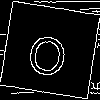O: (25, 25, 71, 79)
